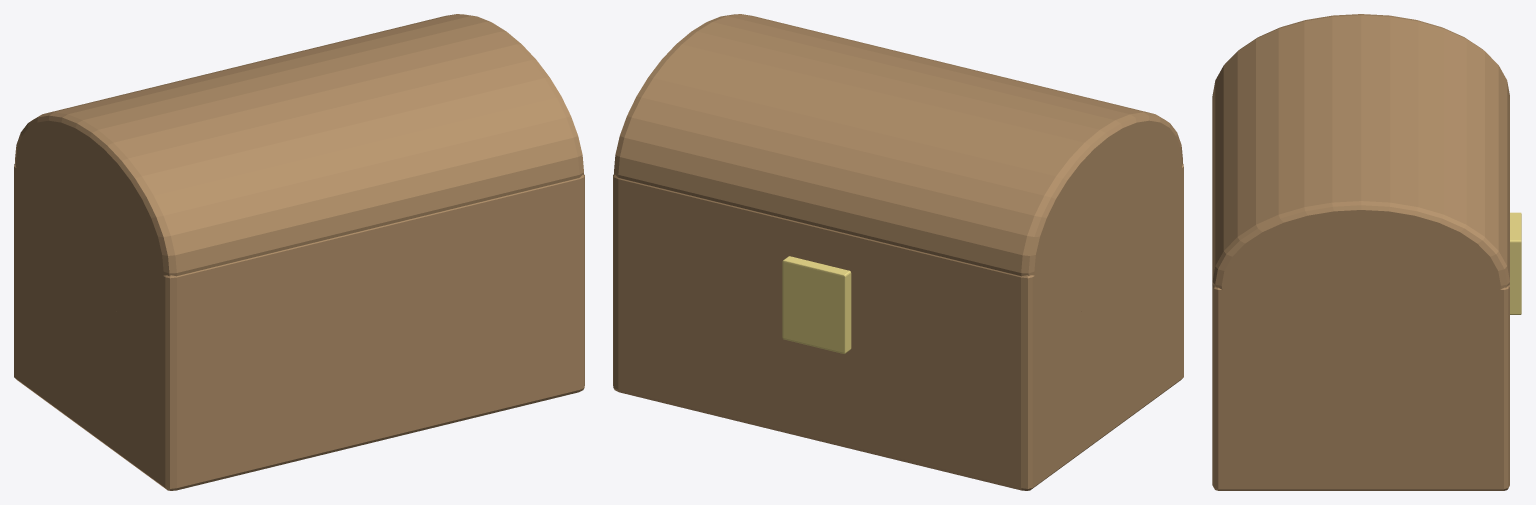
Rendered from starstone_chest.glb.
3 views of the same model, side by side, from view 1: azimuth 30°, elevation 25°; view 2: azimuth 150°, elevation 25°; view 3: azimuth 270°, elevation 25° (orthographic). The views are drawn at different scales.
Visible parts, largest first — view 1: ChestBody, ChestLid; view 2: ChestBody, ChestLid, ChestLock; view 3: ChestLid, ChestBody, ChestLock.
Part boxes in pixels (<box>): ChestBody: <box>14,164,584,490</box>; ChestLid: <box>15,14,583,314</box>; ChestBody: <box>613,164,1183,490</box>; ChestLid: <box>614,14,1182,314</box>; ChestLock: <box>782,256,851,353</box>; ChestLid: <box>1212,14,1509,292</box>; ChestBody: <box>1212,282,1509,490</box>; ChestLock: <box>1510,212,1521,314</box>.
Size of the model in its own units: 1 by 0.695 by 0.675.
